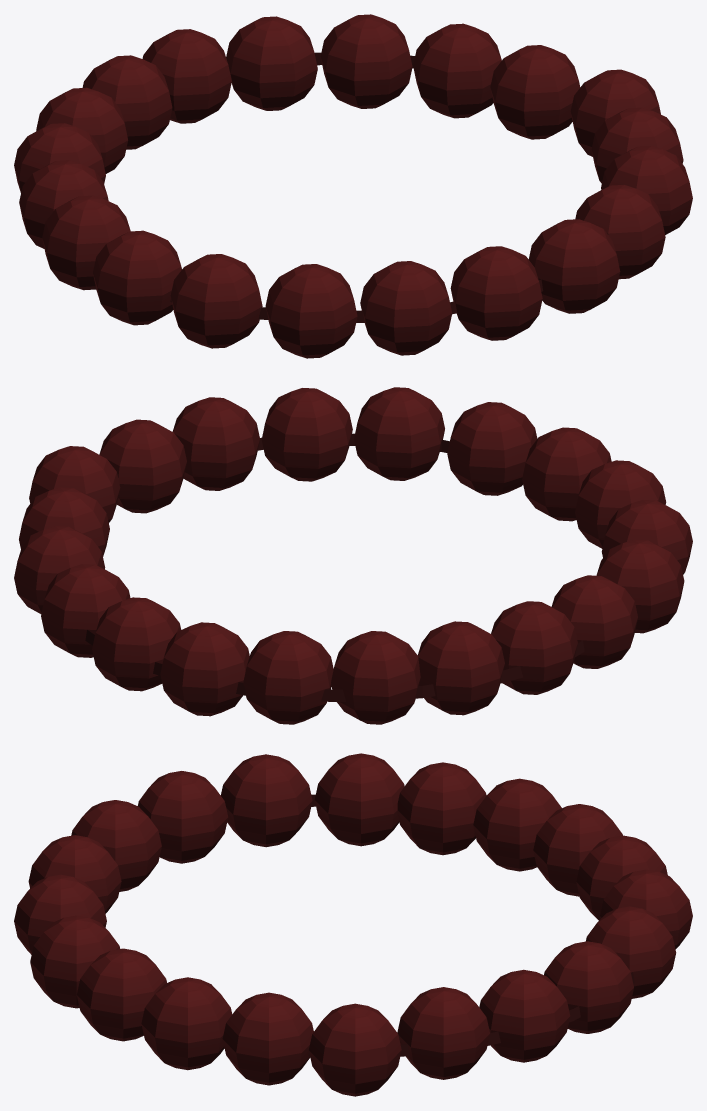
File: Bracelet.fbx
3 renders of one model, top to bottom at view 1: azimuth 30°, elevation 25°; view 2: azimuth 150°, elevation 25°; view 3: azimuth 270°, elevation 25°, orthographic. The views are drawn at different scales.
Parts seen in each view (by area): view 1: Bracelet; view 2: Bracelet; view 3: Bracelet.
Boxes of the visible parts, box(x1,y1,x2,y2) form: Bracelet: box(14, 14, 692, 358); Bracelet: box(14, 387, 692, 724); Bracelet: box(14, 753, 692, 1096).
Size of the model in its own units: 74.27 by 10.08 by 73.6.
